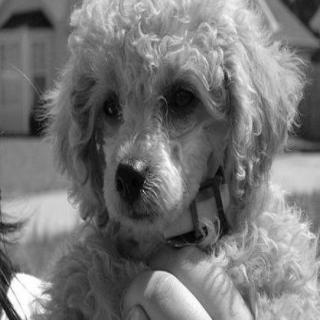dog: (48, 0, 287, 247)
nose: (115, 154, 152, 207)
